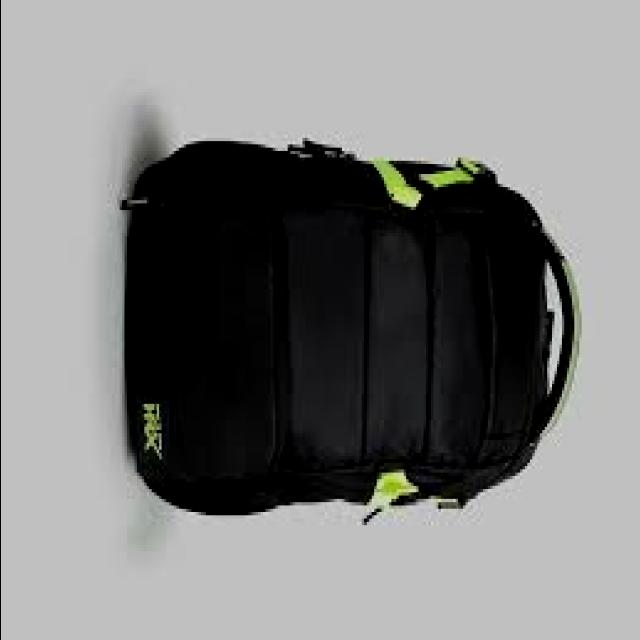backpack: (122, 139, 584, 523)
